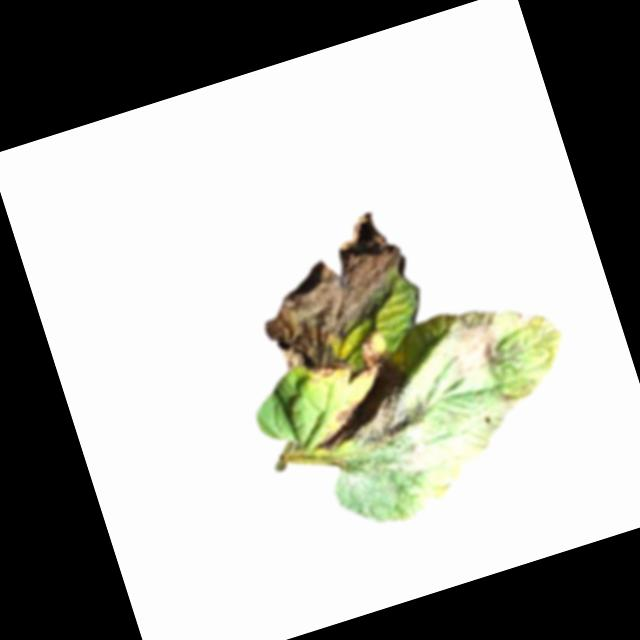Late_blight: (240, 205, 431, 394), (303, 353, 448, 499), (432, 304, 511, 381), (310, 359, 352, 393), (508, 303, 536, 332), (439, 469, 458, 488)
